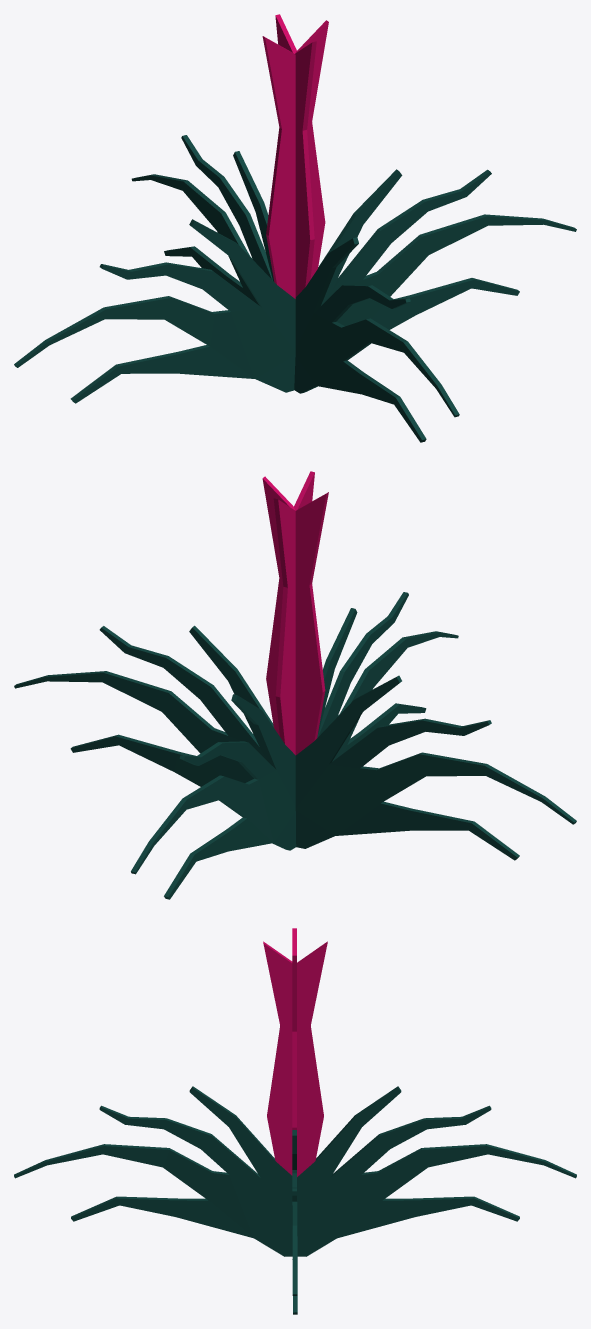
File: slot_fern.obj
The picture shows the model from 3 angles, top to bottom: view 1: azimuth 30°, elevation 25°; view 2: azimuth 150°, elevation 25°; view 3: azimuth 270°, elevation 25°; orthographic projection. The views are drawn at different scales.
Visible parts, largest first — view 1: fern?, fern?.001; view 2: fern?, fern?.001; view 3: fern?, fern?.001.
Boxes of the visible parts, x1,y1,x2,y2 form: fern?: (14, 135, 576, 442); fern?.001: (262, 14, 328, 298); fern?: (14, 592, 576, 899); fern?.001: (262, 471, 328, 755); fern?: (14, 1086, 576, 1314); fern?.001: (263, 928, 327, 1176).
Bounding box in the file's own units: 7.43 × 4.57 × 7.43.
